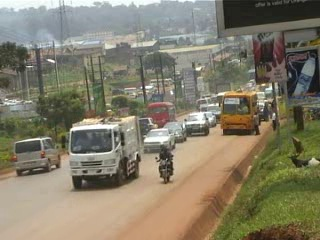Car: (141, 126, 176, 156), (162, 118, 189, 143), (138, 114, 158, 139), (197, 109, 218, 128)
Motorcycle: (153, 141, 176, 184), (139, 120, 148, 138)
